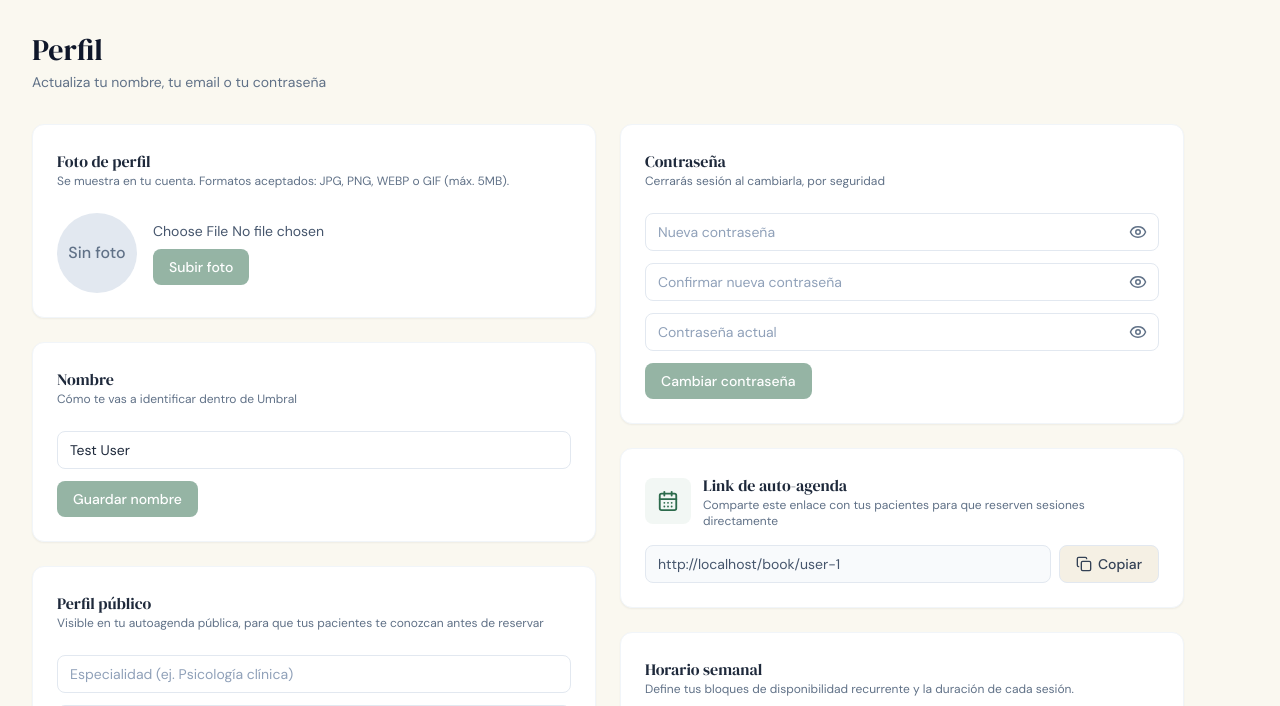
Test: ProfilePage — account-settings Req: Profile Section Scope › tipear mientras el guardado del nombre está pendiente no descarta su resultado
Replace the text in the field named "Nombre" with "Nuevo Nombre" at (314, 450), box [57,431,571,469]
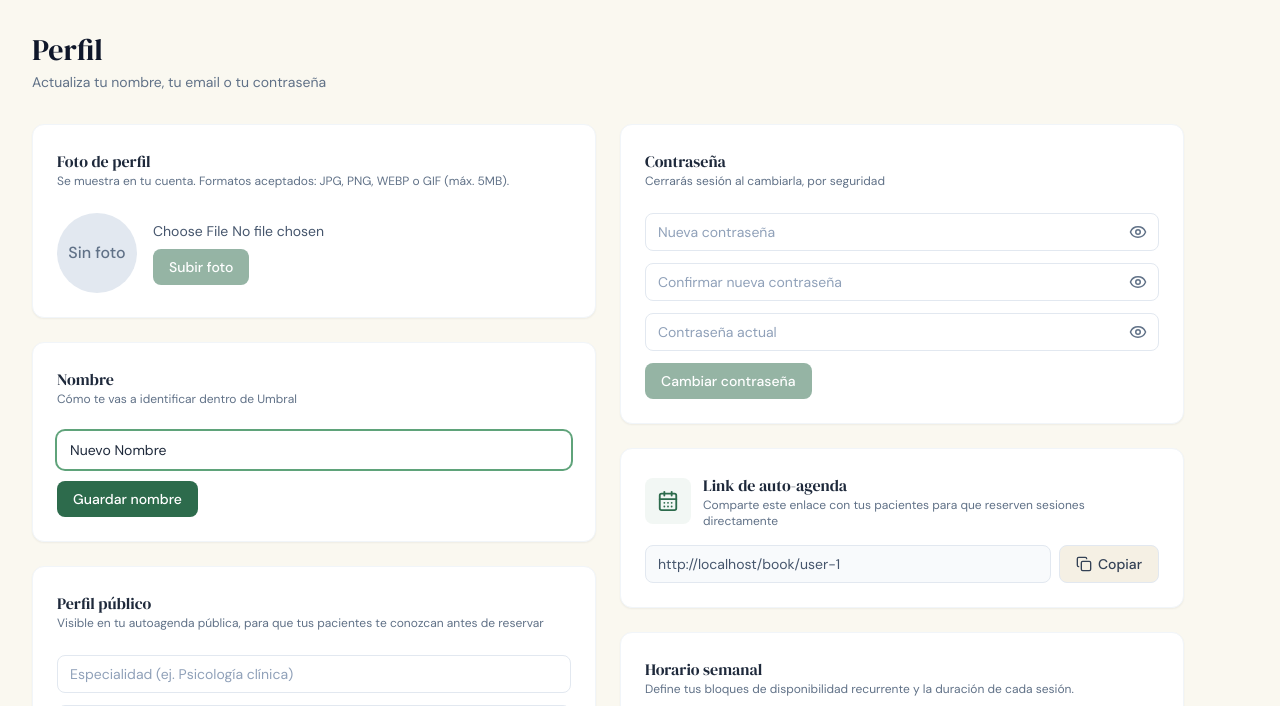
Click the button "Guardar nombre" at (127, 499), box [57,481,198,517]
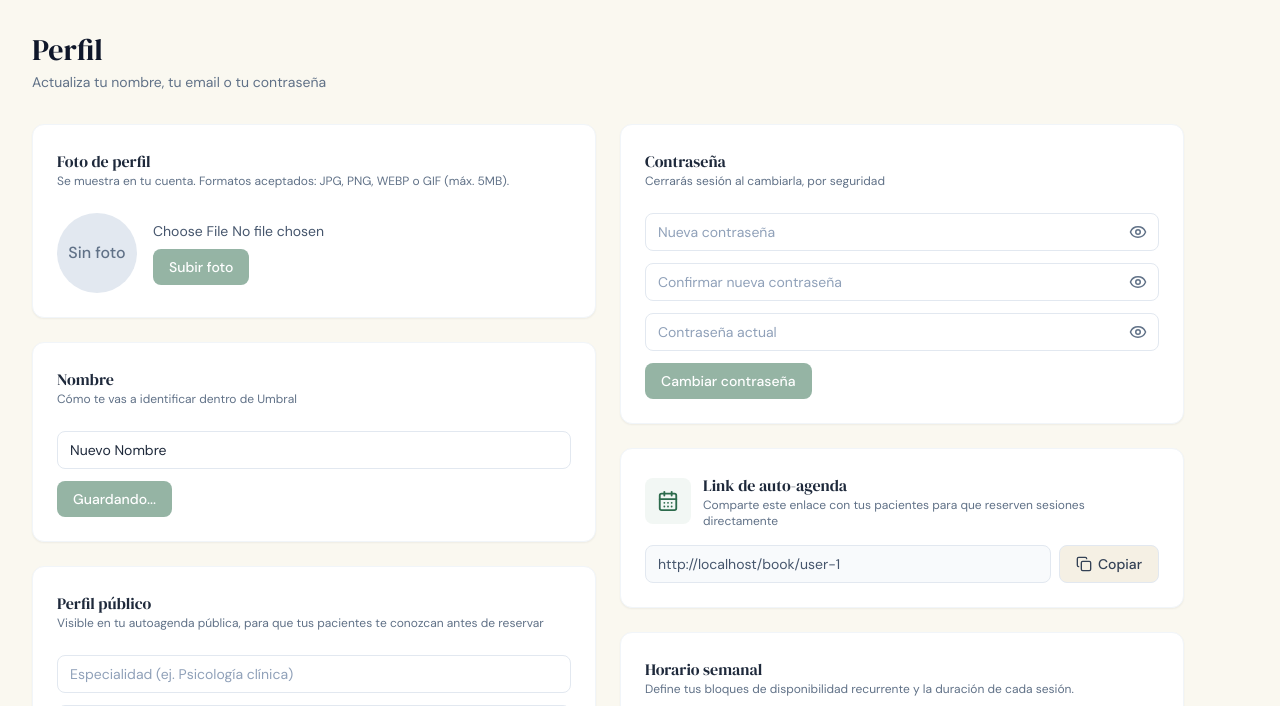
Expected: the button "Guardando..." is disabled, [57,481,172,517]
Type "x" into the field named "Nombre" at (314, 450), box [57,431,571,469]
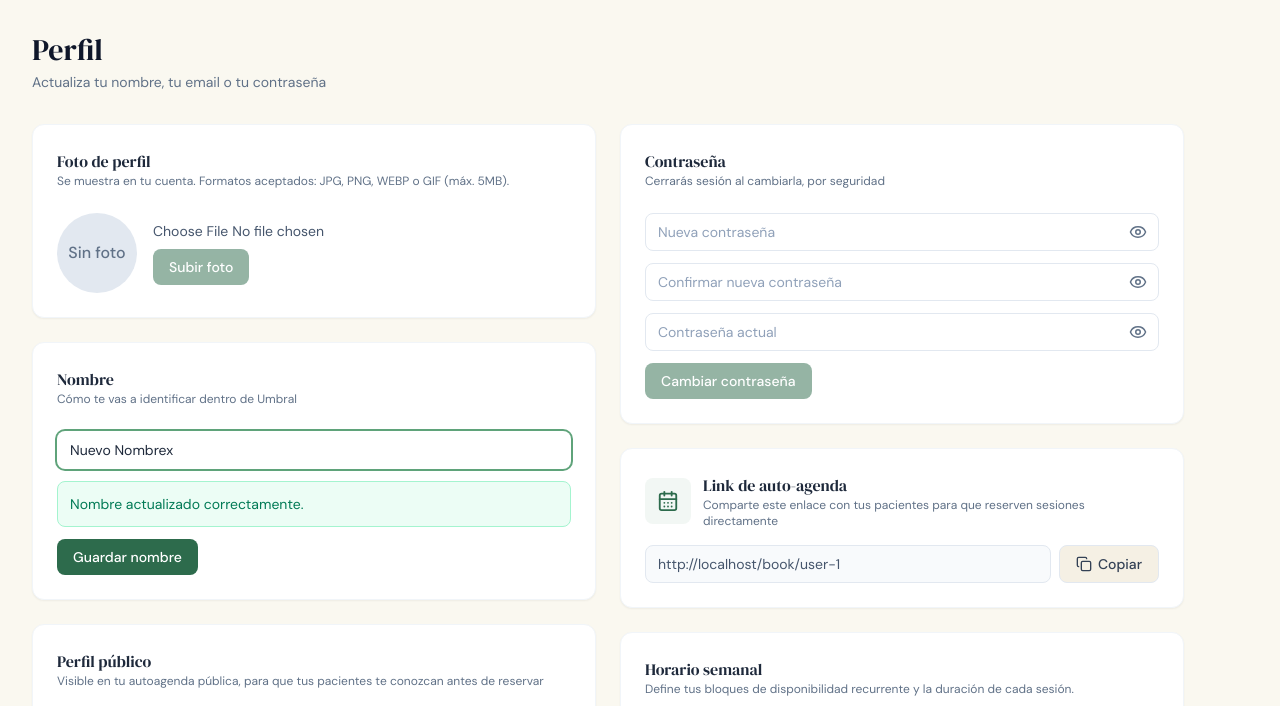
Expected: the text "Nombre actualizado correctamente." is shown, [70,495,303,513]
